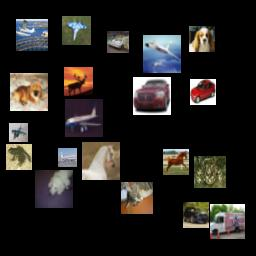airplane: (65, 99, 103, 137), (143, 35, 181, 73), (16, 19, 48, 51), (62, 16, 91, 45), (9, 123, 28, 142), (58, 148, 77, 167)
automobile: (133, 77, 171, 115), (183, 202, 209, 228), (190, 79, 216, 105)
cat: (121, 182, 153, 214)
deer: (64, 67, 93, 96)
dog: (35, 170, 73, 208), (10, 73, 48, 111), (189, 26, 215, 52)
frog: (194, 156, 226, 188), (6, 144, 32, 170)
ship: (107, 31, 129, 53)
truck: (210, 204, 245, 239)
